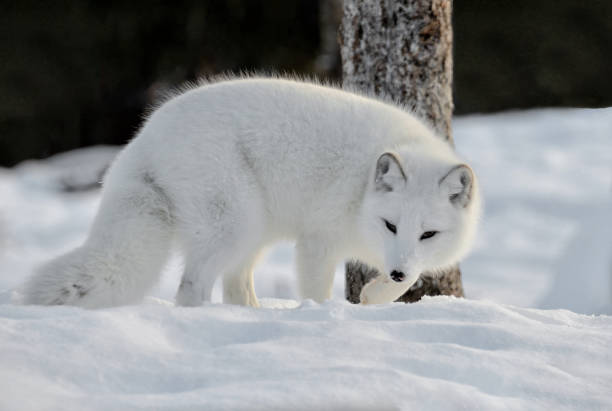arcticfox: (354, 161, 473, 290)
